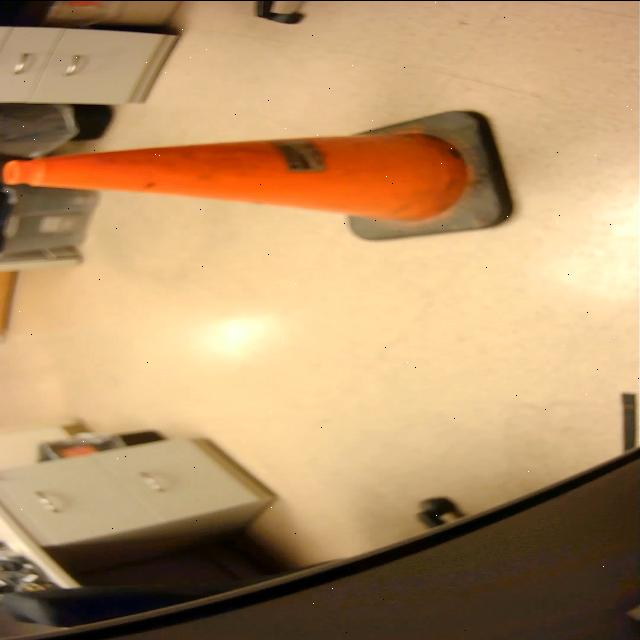traffic cone: (1, 108, 516, 247)
